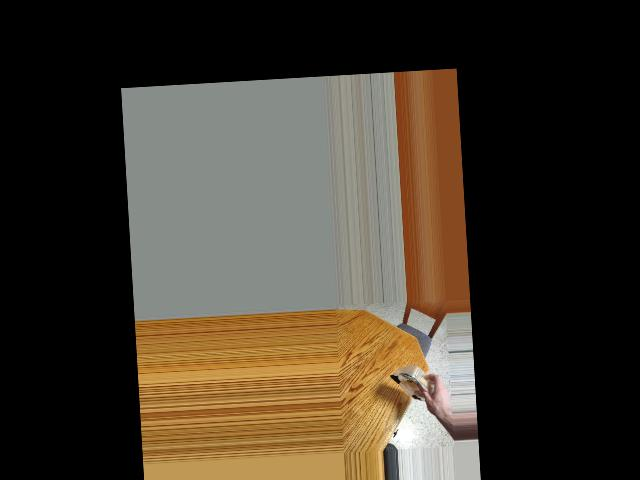cheese: (391, 355, 438, 417)
